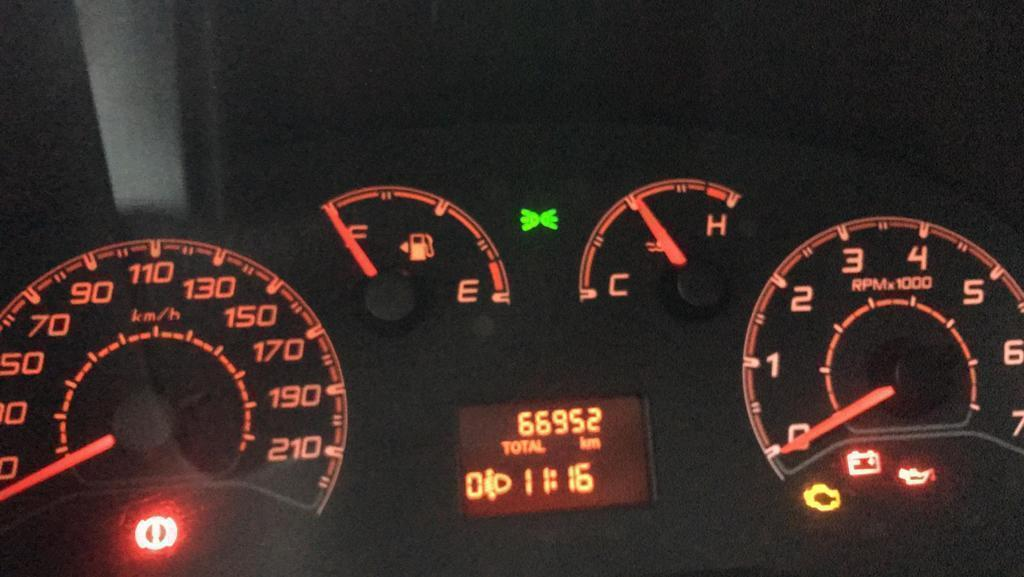0: (463, 470, 484, 501)
1: (522, 465, 535, 501), (541, 464, 550, 497), (566, 463, 575, 496)
2: (586, 405, 603, 432)
5: (568, 407, 584, 433)
6: (575, 461, 596, 495), (516, 409, 534, 438), (535, 409, 551, 436)
9: (552, 407, 568, 434)
X: (550, 467, 561, 491), (587, 437, 601, 450), (501, 439, 511, 456), (511, 439, 521, 455), (536, 438, 546, 454), (520, 438, 528, 456), (579, 435, 587, 450), (529, 439, 536, 455)
odometer: (450, 391, 660, 518)
